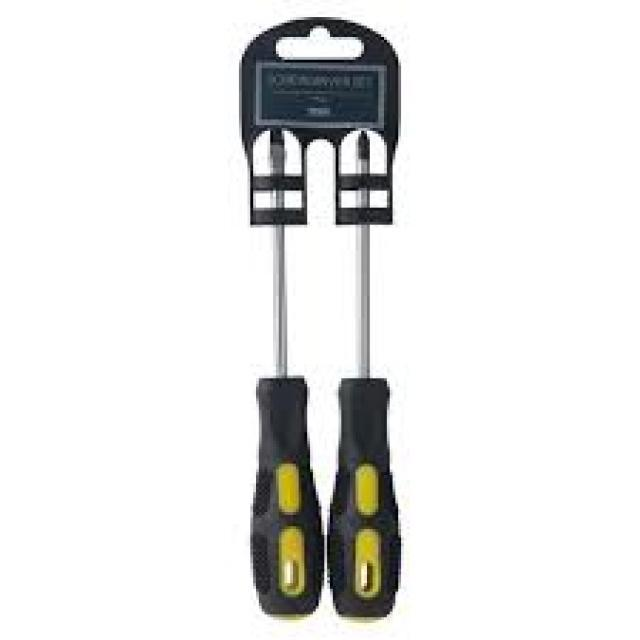screwdriver: (324, 129, 409, 619), (245, 125, 328, 624)
